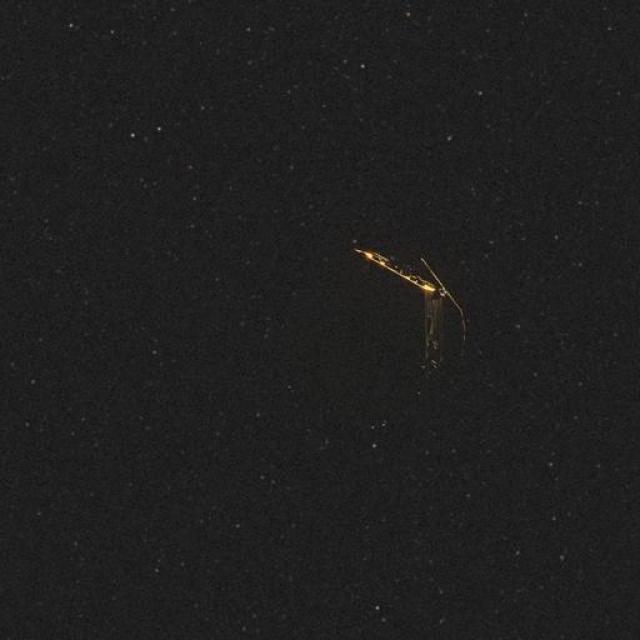lisa_pathfinder: (271, 218, 495, 418)
